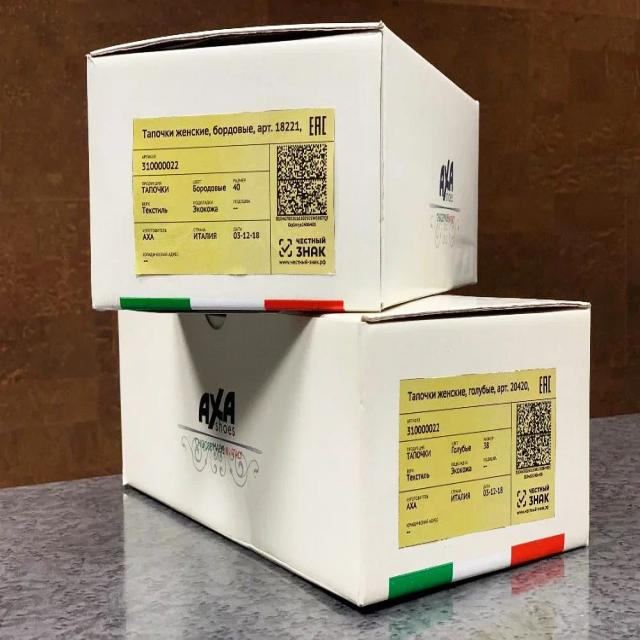datamatrix: (276, 141, 330, 218), (516, 396, 553, 471)
